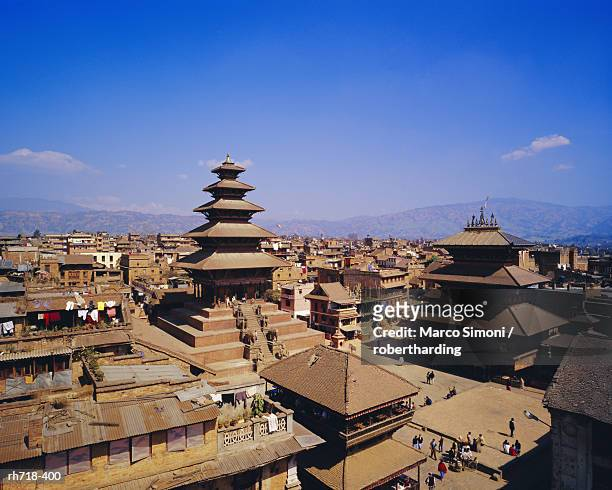nyathapola: (181, 146, 306, 347)
